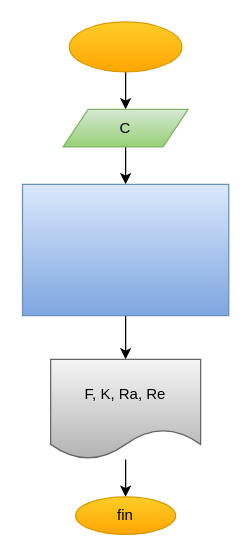
Some shapes in this 250 by 556 pixel diagram are drawn without their labels. The shapes that lost their labels are listed below. From the top down, each one's box as (x1, y1, x2, y2) in pixels, then its label:
(68, 21, 182, 72): inicio
(21, 183, 229, 316): F= C*1.8+32 K= C+273.15 Ra= C*1.8+491.67 Re= C*0.8
